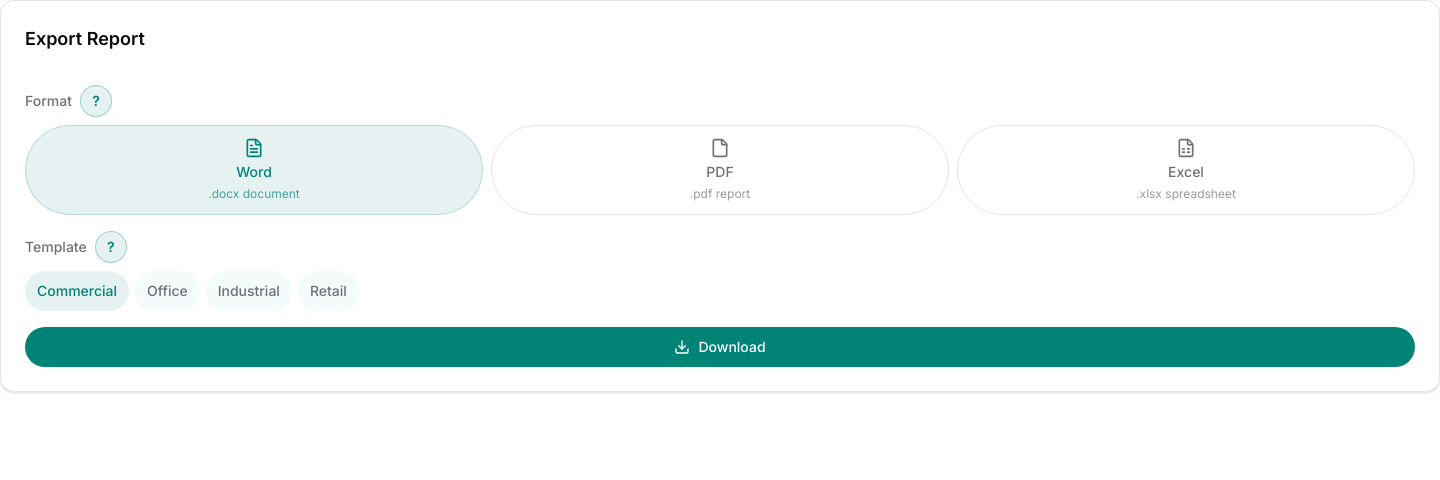
ExportPanel › shows generic error message for non-Error failures
Click the button with test id "download-button".
click(720, 347)  # box x1=25 y1=327 x2=1415 y2=367
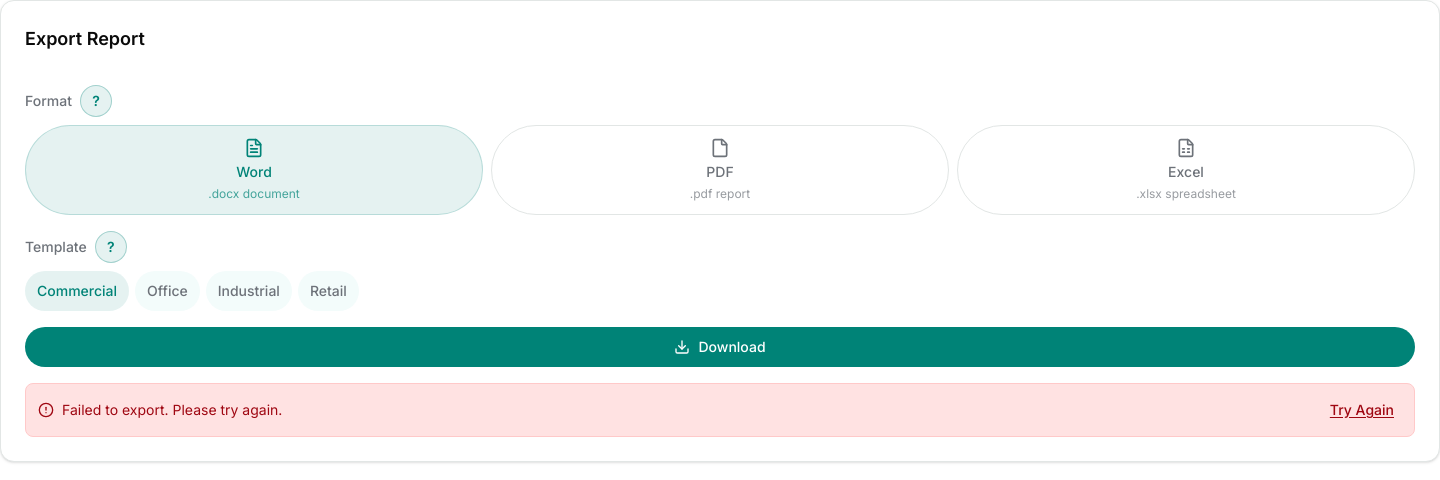
Result: the element with test id "export-error" is shown at x1=25 y1=383 x2=1415 y2=437
Result: the text "Failed to export. Please try again." is shown at x1=62 y1=401 x2=282 y2=418
